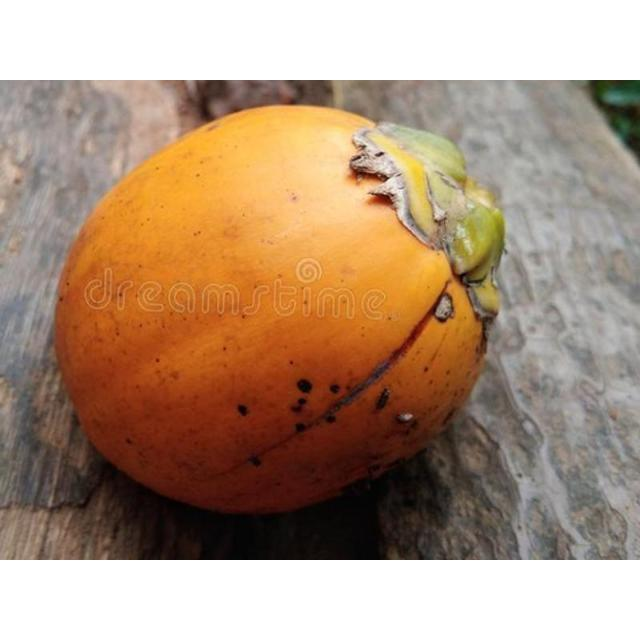good: (51, 105, 506, 522)
